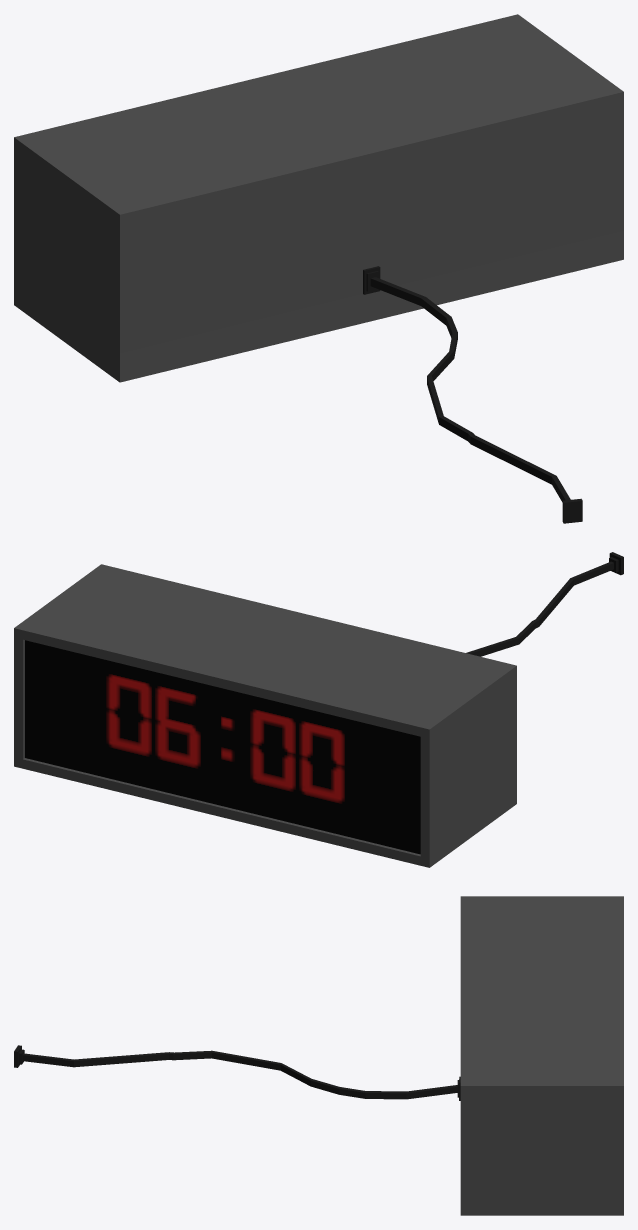
File: Despertador.glb
3 views of the same model, one above another, from view 1: azimuth 30°, elevation 25°; view 2: azimuth 150°, elevation 25°; view 3: azimuth 270°, elevation 25° (orthographic). The views are drawn at different scales.
Visible parts, largest first — view 1: Alarm-convcol; view 2: Alarm-convcol; view 3: Alarm-convcol.
Part boxes in pixels (x1=…): Alarm-convcol: x1=14, y1=14, x2=623, y2=523; Alarm-convcol: x1=14, y1=552, x2=623, y2=867; Alarm-convcol: x1=14, y1=896, x2=623, y2=1215.
Size of the model in its own units: 0.6094 by 0.1939 by 0.8282.
3 materials, 1 textured.
